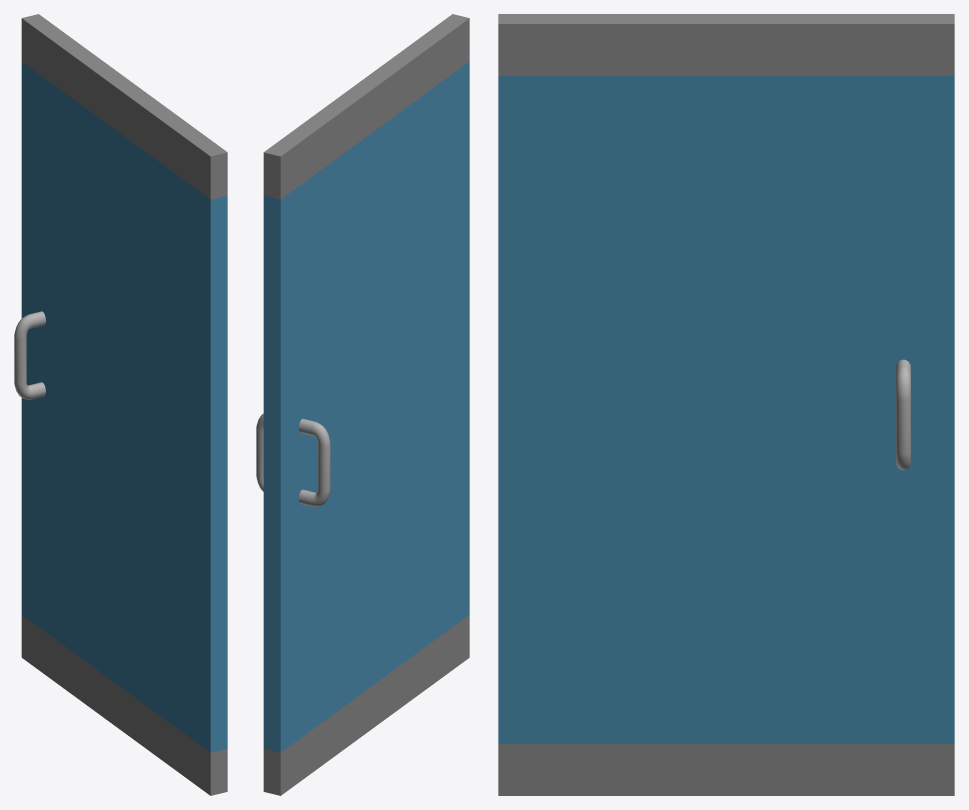
Rendered from door_glass.fbx.
3 views of the same model, side by side, from view 1: azimuth 30°, elevation 25°; view 2: azimuth 150°, elevation 25°; view 3: azimuth 270°, elevation 25° (orthographic). The views are drawn at different scales.
Parts seen in each view (by area): view 1: Cube.001; view 2: Cube.001; view 3: Cube.001.
Part boxes in pixels (left/top/right/bottom): Cube.001: left=14, top=14, right=227, bottom=795; Cube.001: left=256, top=14, right=469, bottom=795; Cube.001: left=498, top=14, right=954, bottom=795.
Size of the model in its own units: 101 by 849 by 455.
1 material, 1 textured.
